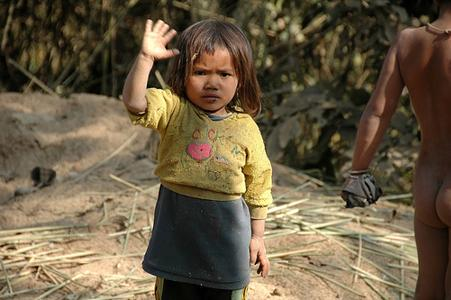person: (123, 18, 273, 300)
